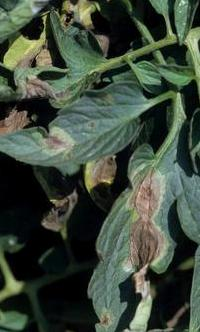Tomato leaf late blight: (83, 94, 200, 323), (0, 87, 156, 172)
